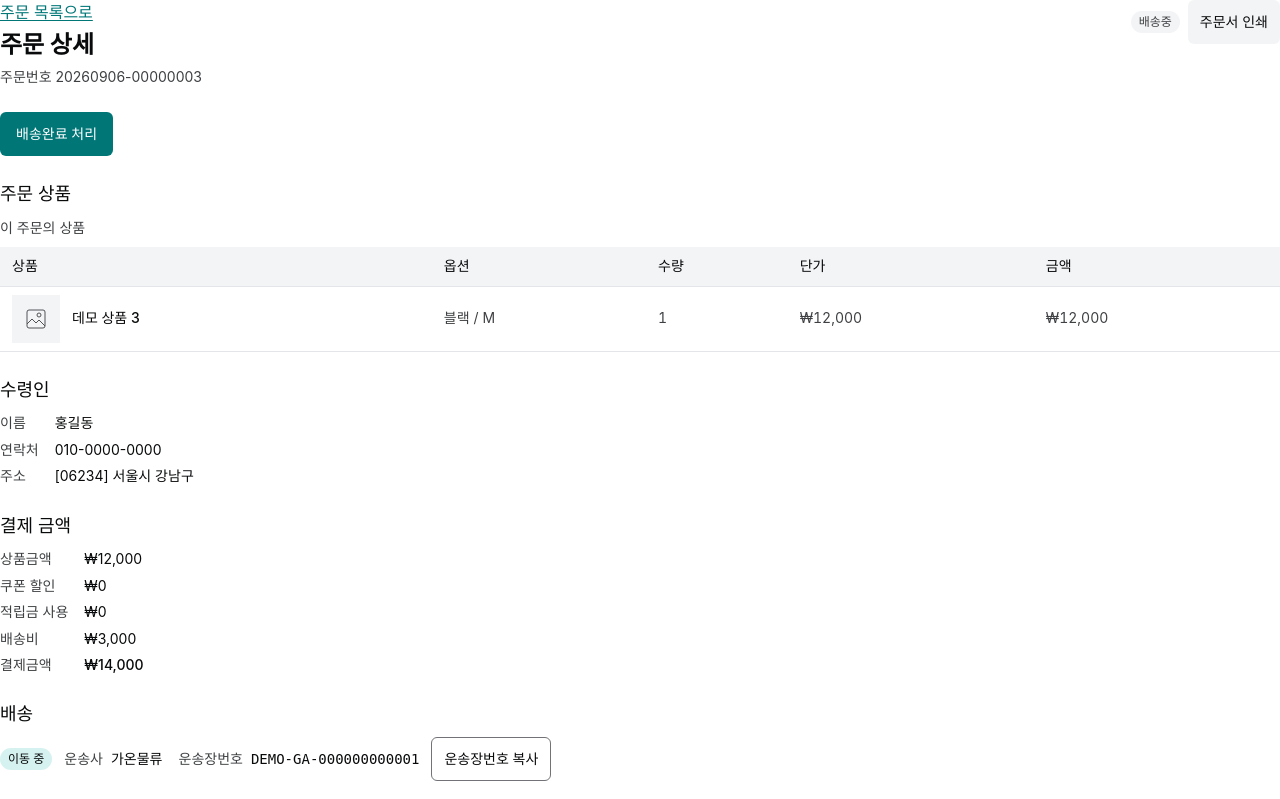
it: 배송완료 처리 — 두 표가 함께 (4.3) › leaves a tracking line that says a person confirmed it
Click the button "배송완료 처리" at (56, 134), box [0,112,113,156]
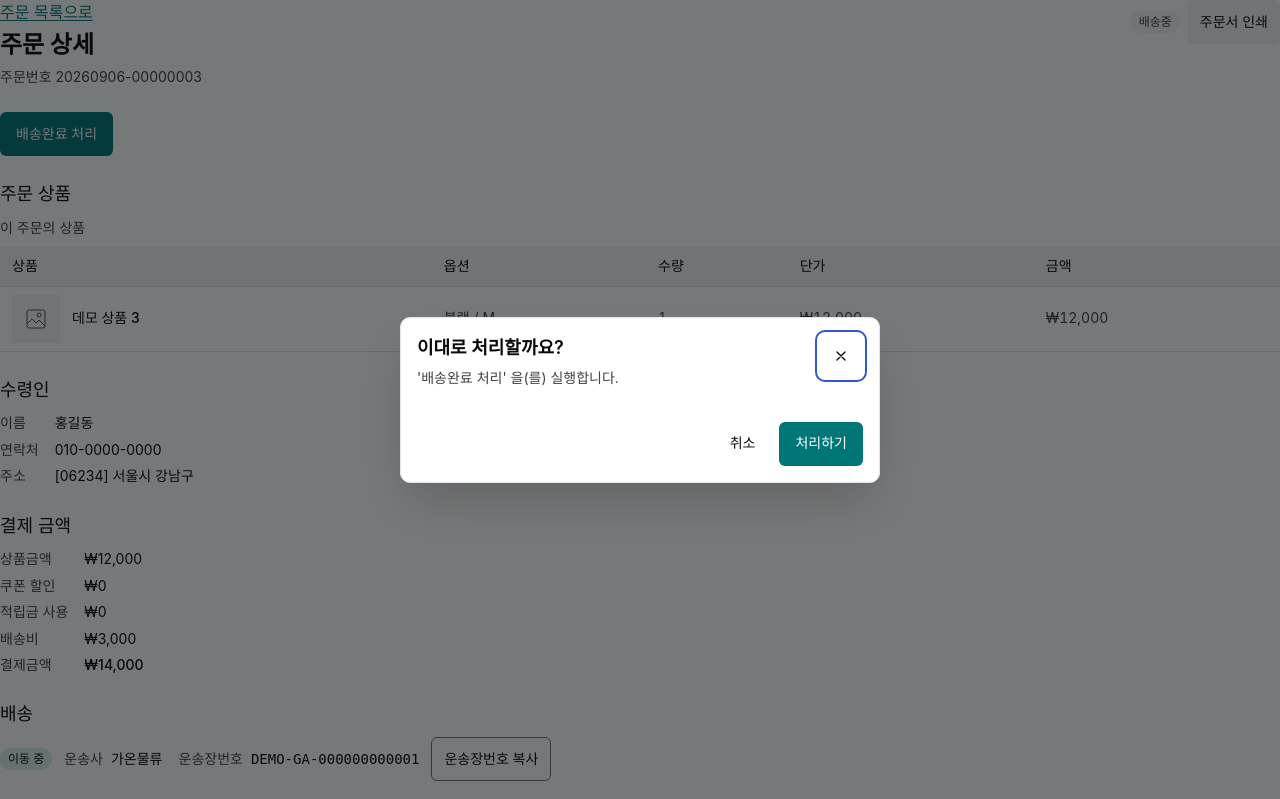
Click the button "처리하기" at (821, 444), box [780,422,863,466]
(page scrolled)
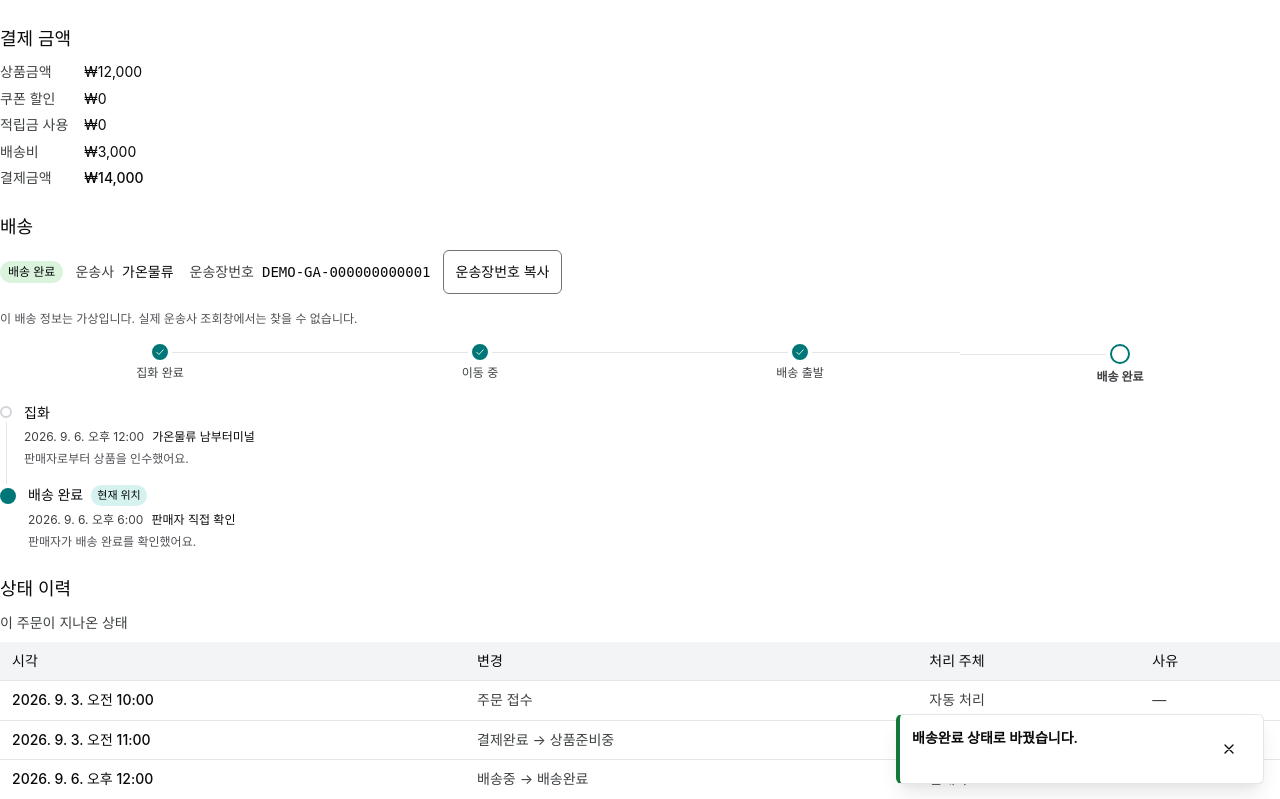
Check: the text "판매자가 배송 완료를 확인했어요." is shown, box [28,534,196,549]
